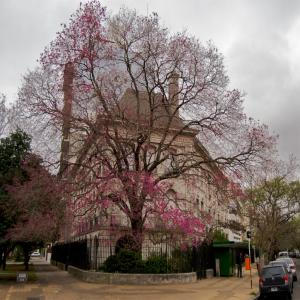Vehicle-registration-plate: (272, 288, 278, 292)
